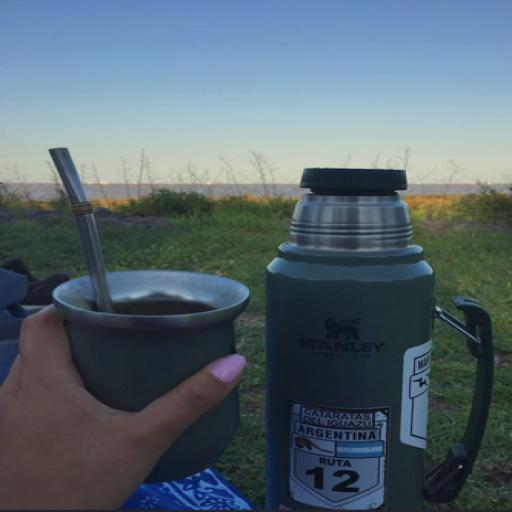mate: (56, 268, 244, 476)
termo: (257, 157, 478, 512)
